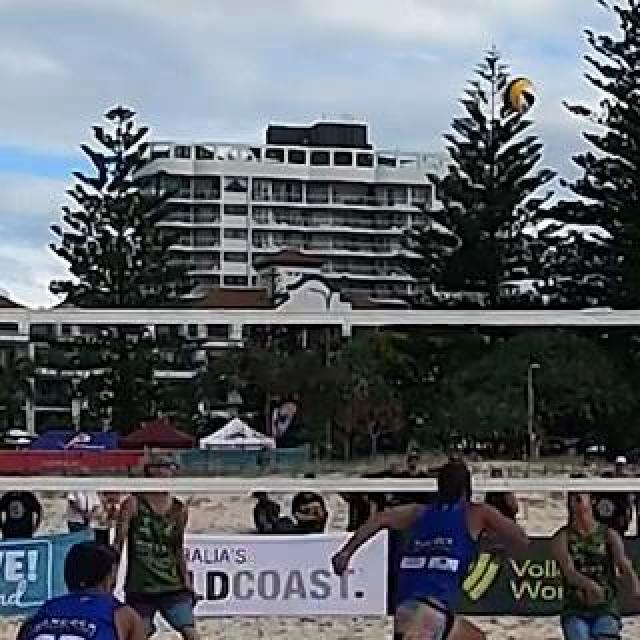volleyball: (506, 78, 538, 112)
